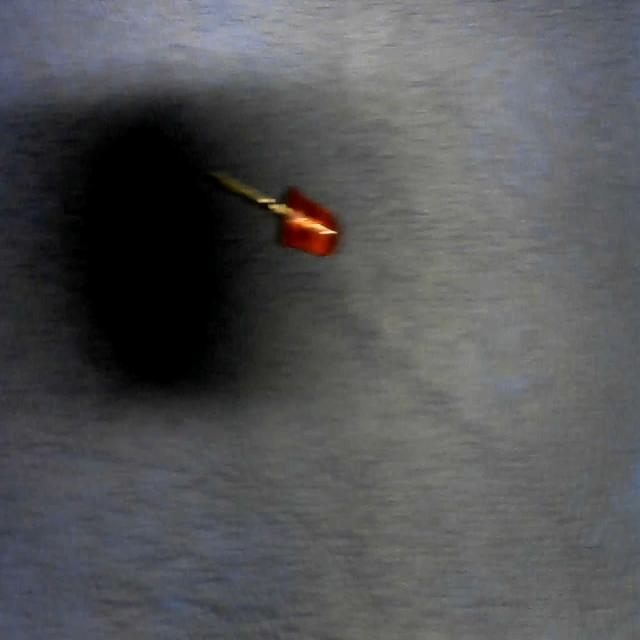LED: (189, 148, 342, 261)
